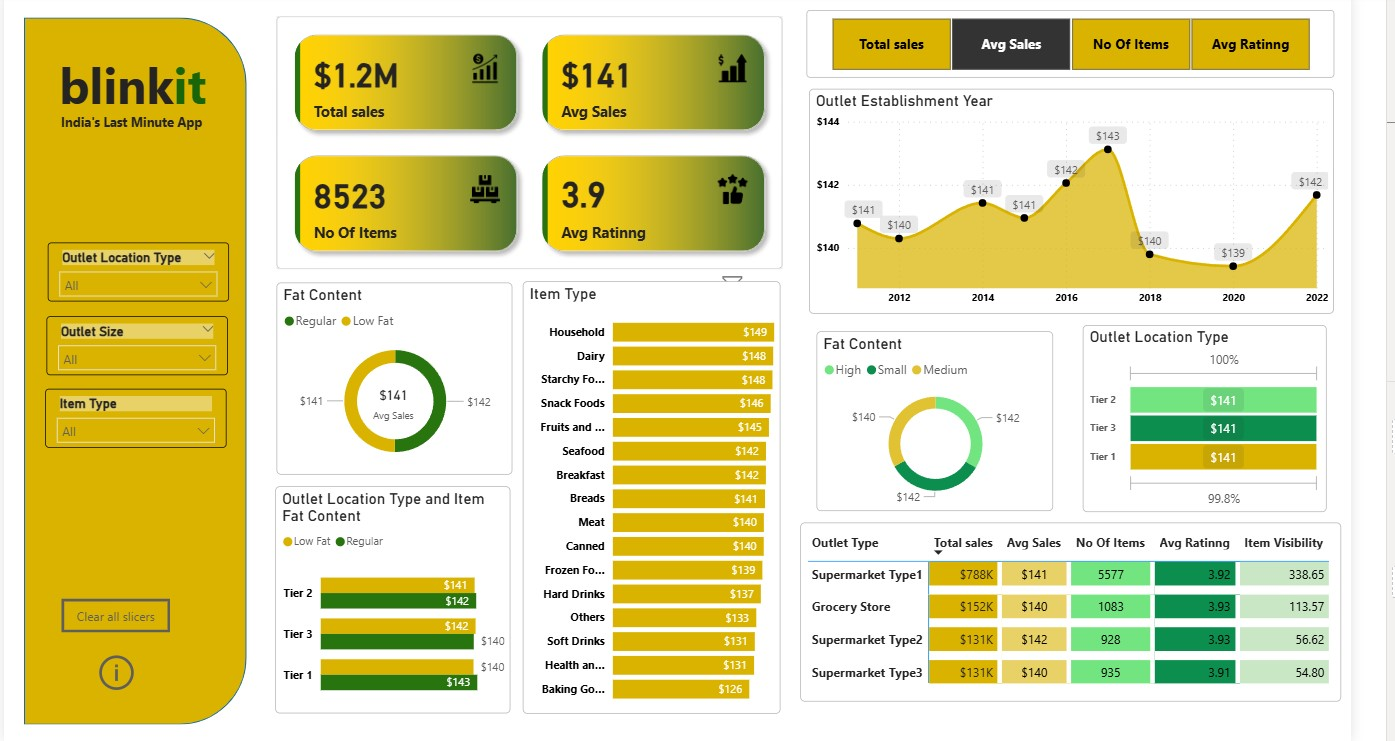

This screenshot's page, from the dashboard's own definition file:
{"tool":"powerbi","page":{"name":"Blinkit  Overview","canvas":[1480,820],"ordinal":0},"visuals":[{"type":"shape","box":[22.5,24.1,244.5,777],"z":0},{"type":"donutChart","title":"Fat Content","fields":{"Y":["BlinkIT Grocery Data.Avg Sales"],"Category":["BlinkIT Grocery Data.Item Fat Content"]},"box":[299.4,315.9,259,211.1],"z":0,"group":"g3"},{"type":"funnel","title":"Outlet Location Type","fields":{"Y":["BlinkIT Grocery Data.Avg Sales"],"Category":["BlinkIT Grocery Data.Outlet Location Type"]},"box":[1185,362.5,268,205.8],"z":500,"group":"g1"},{"type":"slicer","fields":{"Values":["metrics.metrics"]},"box":[882.1,16,579.6,74.2],"z":1000,"group":"g2"},{"type":"textbox","box":[37.4,58.3,208.7,86.6],"z":1000},{"type":"stackedAreaChart","title":"Outlet Establishment Year","fields":{"Y":["BlinkIT Grocery Data.Avg Sales"],"Category":["BlinkIT Grocery Data.Outlet Establishment Year"]},"box":[884.6,103.4,576.9,247.2],"z":1000,"group":"g4"},{"type":"card","fields":{"Values":["BlinkIT Grocery Data.Avg Sales"]},"box":[398.4,421.5,59.4,51.9],"z":1000,"group":"g3"},{"type":"cardVisual","fields":{"Data":["BlinkIT Grocery Data.Total sales","BlinkIT Grocery Data.Avg Sales","BlinkIT Grocery Data.No Of Items","BlinkIT Grocery Data.Avg Ratinng"]},"box":[299.4,23.4,556.3,277.5],"z":2000},{"type":"group","id":"g1","title":"Group 3","box":[1185,362.5,268,205.8],"z":2000,"group":"g4"},{"type":"textbox","box":[57.3,125,177,37.6],"z":3000},{"type":"donutChart","title":"Fat Content","fields":{"Y":["BlinkIT Grocery Data.Avg Sales"],"Category":["BlinkIT Grocery Data.Outlet Size"]},"box":[892.7,370.5,259.6,197.8],"z":3500,"group":"g4"},{"type":"group","id":"g2","title":"Group 2","box":[882.1,16,579.6,74.2],"z":4000},{"type":"pivotTable","fields":{"Rows":["BlinkIT Grocery Data.Outlet Type"],"Values":["BlinkIT Grocery Data.Total sales","BlinkIT Grocery Data.Avg Sales","BlinkIT Grocery Data.No Of Items","BlinkIT Grocery Data.Avg Ratinng","Sum(BlinkIT Grocery Data.Item Visibility)"]},"box":[874.9,580.4,594.7,197],"z":4000,"group":"g4"},{"type":"group","id":"g3","title":"Group 3","box":[299.4,315.9,258.2,211.5],"z":5000},{"type":"clusteredBarChart","title":"Outlet Location Type and Item Fat Content","fields":{"Y":["BlinkIT Grocery Data.Avg Sales"],"Category":["BlinkIT Grocery Data.Outlet Location Type"],"Series":["BlinkIT Grocery Data.Item Fat Content"]},"box":[298.1,539.8,258.2,250],"z":6000},{"type":"barChart","title":"Item Type","fields":{"Y":["BlinkIT Grocery Data.Avg Sales"],"Category":["BlinkIT Grocery Data.Item Type"]},"box":[570,314.5,282.9,475.2],"z":7000},{"type":"group","id":"g4","title":"Group 4","box":[874.9,103.4,594.7,674],"z":9000},{"type":"slicer","fields":{"Values":["BlinkIT Grocery Data.Outlet Location Type"]},"box":[48.1,272,199.2,64.6],"z":13000},{"type":"slicer","fields":{"Values":["BlinkIT Grocery Data.Outlet Size"]},"box":[46.7,352.3,199.2,64.6],"z":14000},{"type":"slicer","fields":{"Values":["BlinkIT Grocery Data.Item Type"]},"box":[45.3,432.7,199.2,64.6],"z":15000},{"type":"actionButton","box":[98.9,718.4,49.4,52.2],"z":16000},{"type":"actionButton","box":[63.2,663.4,119.5,37.1],"z":17000}]}

Visuals, with their boxes on the page's 1480x820 design canvas (x1, y1, x2, y2). These are canvas units, not pixel positions in the 1395x741 screenshot, which may show the page scaled, cropped or inside an application window:
shape: (x1=22, y1=24, x2=267, y2=801)
"Fat Content" donutChart: (x1=299, y1=316, x2=558, y2=527)
"Outlet Location Type" funnel: (x1=1185, y1=362, x2=1453, y2=568)
slicer - metrics.metrics: (x1=882, y1=16, x2=1462, y2=90)
textbox: (x1=37, y1=58, x2=246, y2=145)
"Outlet Establishment Year" stackedAreaChart: (x1=885, y1=103, x2=1462, y2=351)
card - BlinkIT Grocery Data.Avg Sales: (x1=398, y1=422, x2=458, y2=473)
cardVisual - BlinkIT Grocery Data.Total sales x BlinkIT Grocery Data.Avg Sales: (x1=299, y1=23, x2=856, y2=301)
"Group 3" group: (x1=1185, y1=362, x2=1453, y2=568)
textbox: (x1=57, y1=125, x2=234, y2=163)
"Fat Content" donutChart: (x1=893, y1=370, x2=1152, y2=568)
"Group 2" group: (x1=882, y1=16, x2=1462, y2=90)
pivotTable - BlinkIT Grocery Data.Outlet Type x BlinkIT Grocery Data.Total sales: (x1=875, y1=580, x2=1470, y2=777)
"Group 3" group: (x1=299, y1=316, x2=558, y2=527)
"Outlet Location Type and Item Fat Content" clusteredBarChart: (x1=298, y1=540, x2=556, y2=790)
"Item Type" barChart: (x1=570, y1=314, x2=853, y2=790)
"Group 4" group: (x1=875, y1=103, x2=1470, y2=777)
slicer - BlinkIT Grocery Data.Outlet Location Type: (x1=48, y1=272, x2=247, y2=337)
slicer - BlinkIT Grocery Data.Outlet Size: (x1=47, y1=352, x2=246, y2=417)
slicer - BlinkIT Grocery Data.Item Type: (x1=45, y1=433, x2=244, y2=497)
actionButton: (x1=99, y1=718, x2=148, y2=771)
actionButton: (x1=63, y1=663, x2=183, y2=700)
